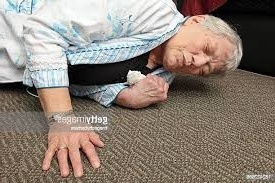fall: (3, 3, 249, 180)
